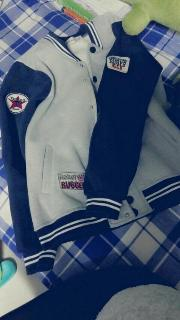long sleeve top: (0, 12, 180, 275)
